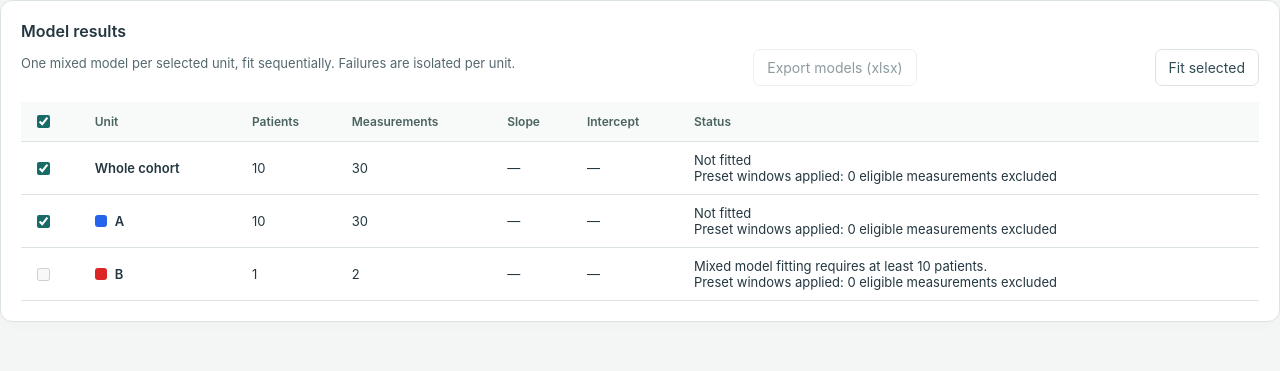
Test: explains how to retry a runtime-load failure after restoring CDN access
The image size is (1280, 371).
Click the button "Fit selected".
click(1207, 68)  # box x1=1154 y1=49 x2=1259 y2=86
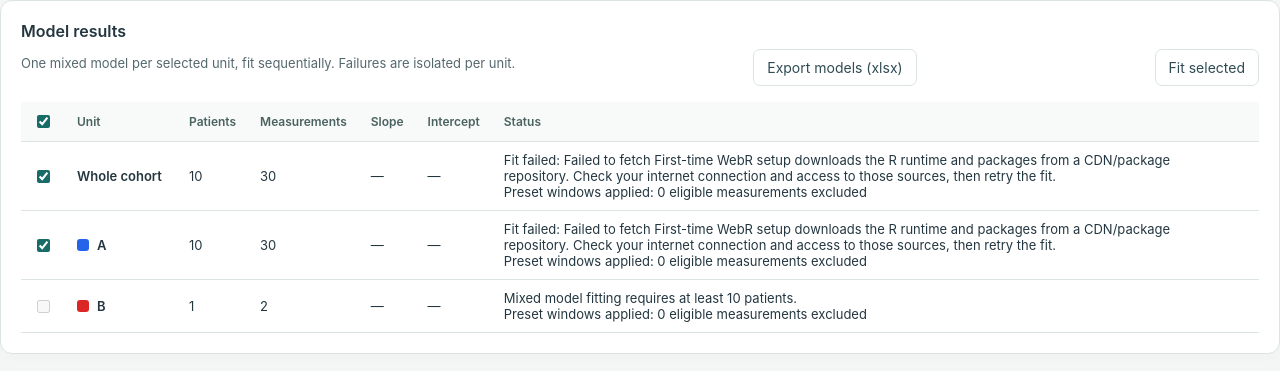
Now the cell with test id "cohort-model-status" in the row of "Whole cohort" shows "retry", box x1=504 y1=152 x2=1170 y2=184
